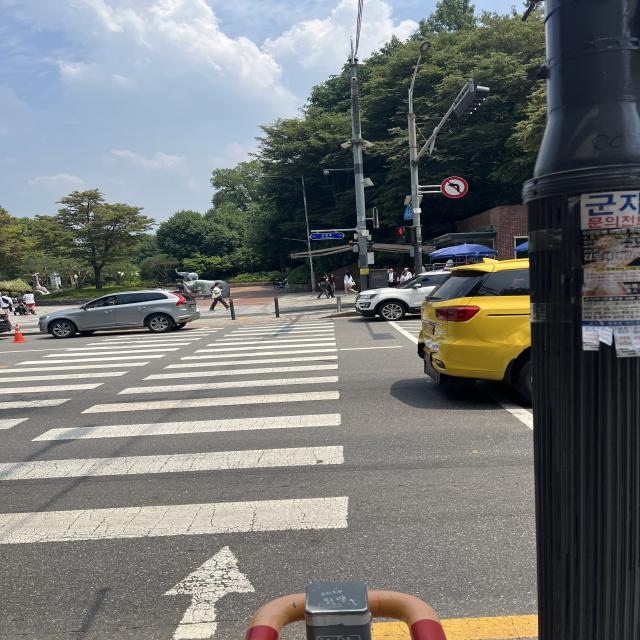red_light: (394, 224, 411, 246)
zebra: (3, 295, 364, 640)
